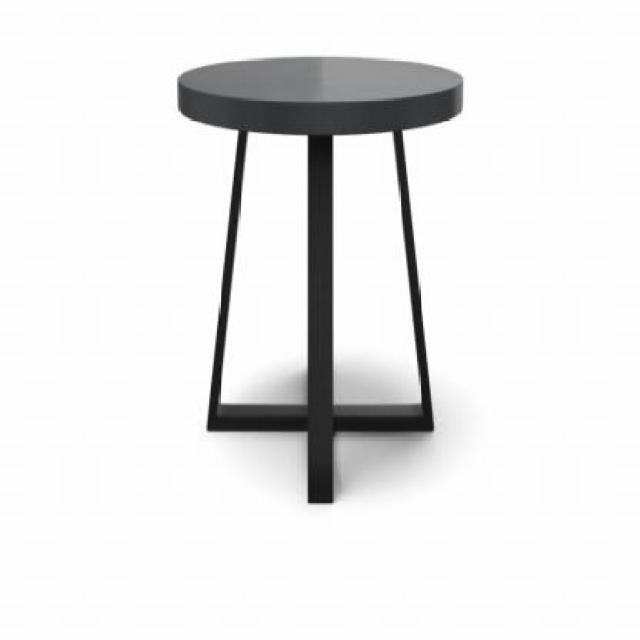table: (177, 53, 461, 504)
